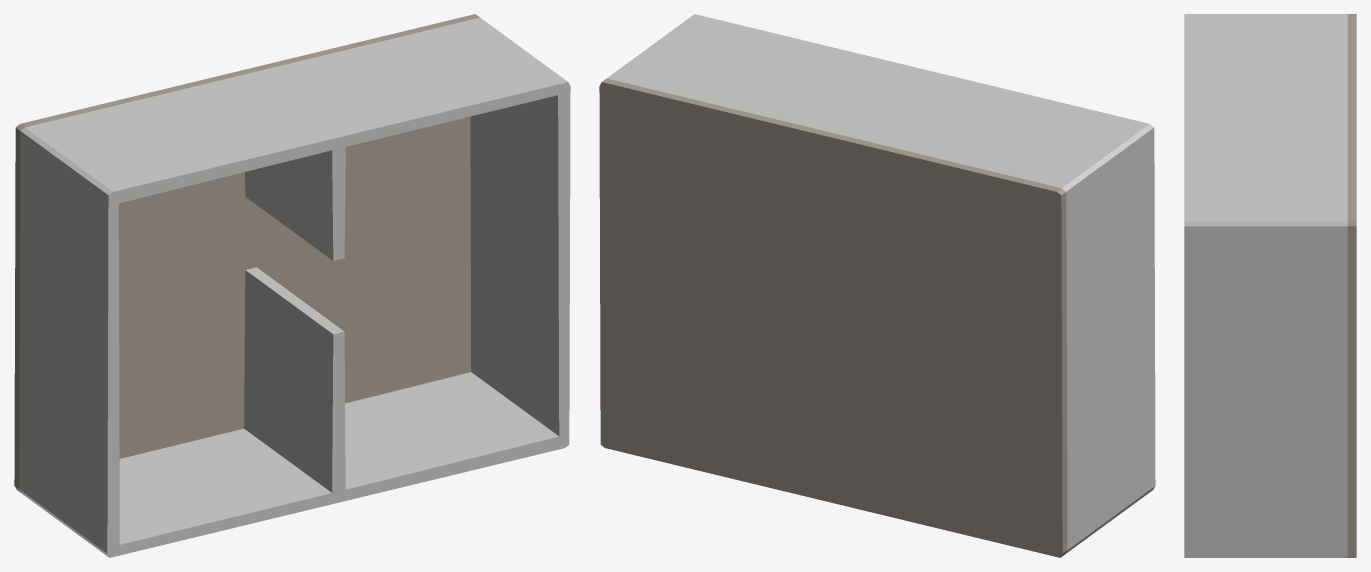
Rendered from house.glb.
3 views of the same model, side by side, from view 1: azimuth 30°, elevation 25°; view 2: azimuth 150°, elevation 25°; view 3: azimuth 270°, elevation 25° (orthographic). The views are drawn at different scales.
Parts seen in each view (by area): view 1: geometry_0, geometry_1; view 2: geometry_1, geometry_0; view 3: geometry_0, geometry_1.
Boxes of the visible parts, left/top/right/bottom form: geometry_0: left=19, top=17, right=570, bottom=557; geometry_1: left=14, top=14, right=479, bottom=492; geometry_1: left=599, top=78, right=1067, bottom=557; geometry_0: left=607, top=14, right=1155, bottom=553; geometry_0: left=1184, top=14, right=1347, bottom=557; geometry_1: left=1347, top=14, right=1356, bottom=557.
Bounding box in the file's own units: 8.2 × 6.2 × 2.85.
